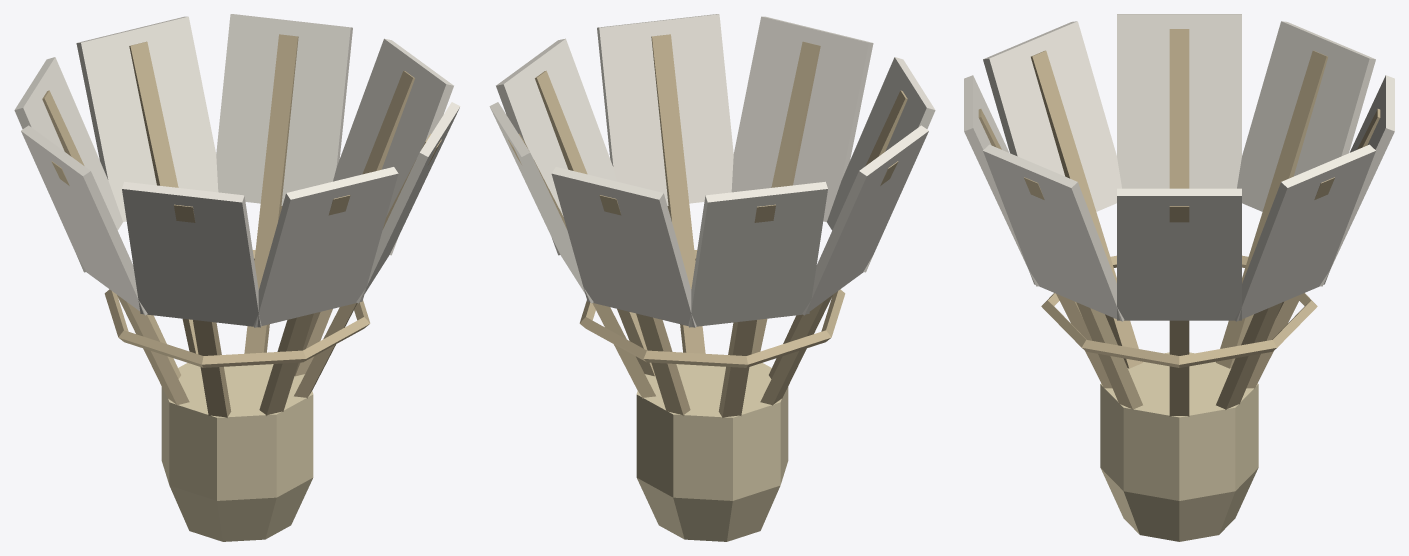
The model's file is b17_feather_shuttlecock.glb.
The picture shows the model from 3 angles, left to right: view 1: azimuth 30°, elevation 25°; view 2: azimuth 150°, elevation 25°; view 3: azimuth 270°, elevation 25°; orthographic projection.
Visible parts, largest first — view 1: b17_feather_shuttlecock; view 2: b17_feather_shuttlecock; view 3: b17_feather_shuttlecock.
Part boxes in pixels (left/top/right/bottom): b17_feather_shuttlecock: left=14, top=14, right=460, bottom=541; b17_feather_shuttlecock: left=489, top=14, right=935, bottom=541; b17_feather_shuttlecock: left=964, top=14, right=1394, bottom=541.
Size of the model in its own units: 0.0654 by 0.0733 by 0.0654.
